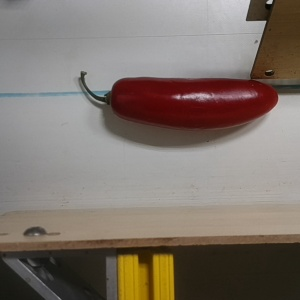Cut Point: (100, 78, 129, 120)
